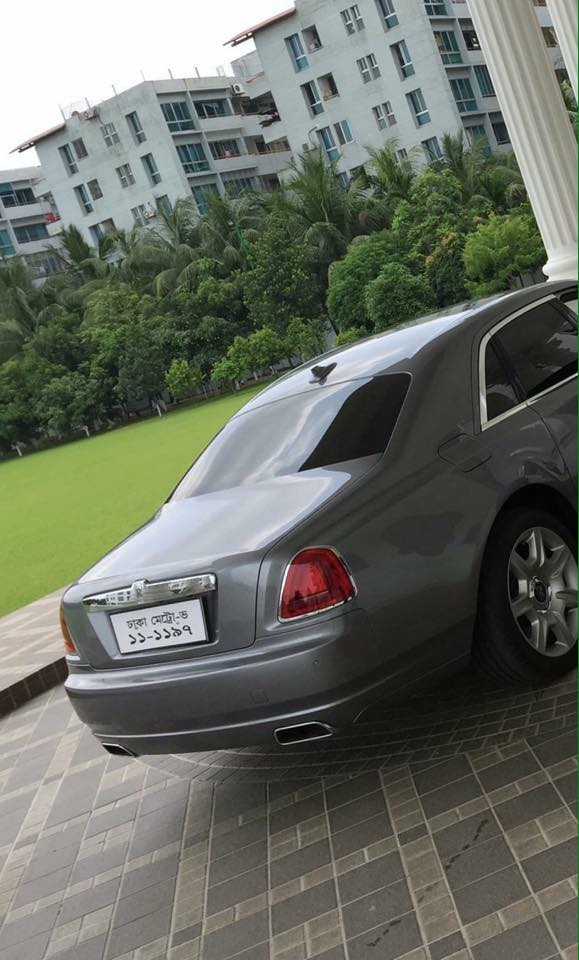registration_plate: (108, 596, 208, 655)
